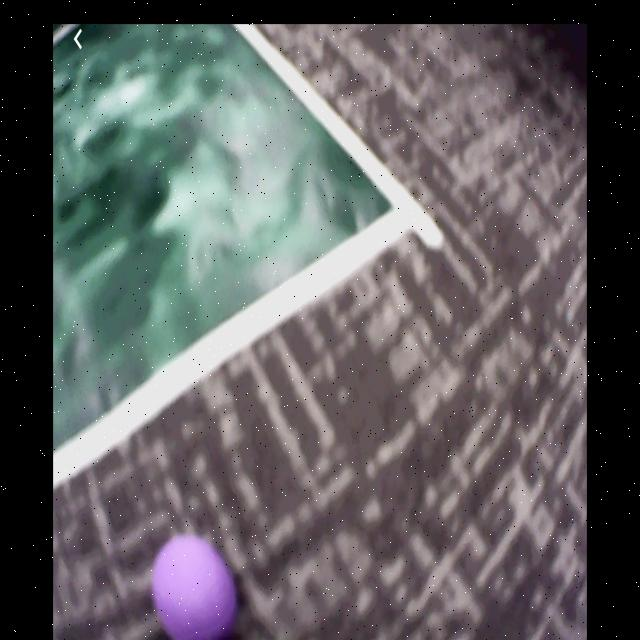ball: (152, 537, 233, 640)
